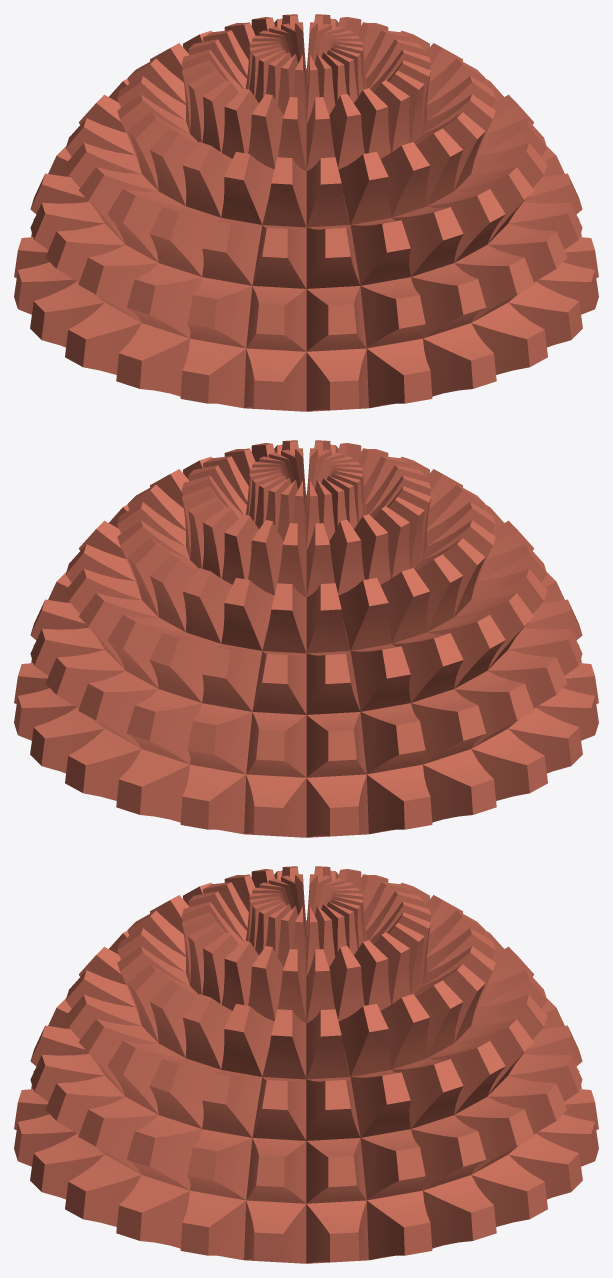
Rendered from bush_2.fbx.
3 renders of one model, top to bottom at view 1: azimuth 30°, elevation 25°; view 2: azimuth 150°, elevation 25°; view 3: azimuth 270°, elevation 25°, orthographic.
Visible parts, largest first — view 1: bush_2; view 2: bush_2; view 3: bush_2.
Part boxes in pixels (<box>): bush_2: <box>14,14,598,411</box>; bush_2: <box>14,440,598,837</box>; bush_2: <box>14,866,598,1263</box>.
Bounding box in the file's own units: 109 × 54.78 × 109.
